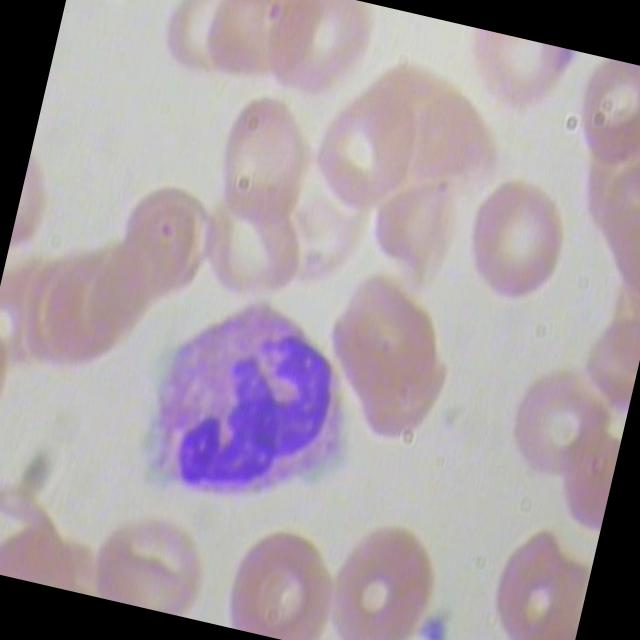Platelets: (411, 602, 457, 640)
RBC: (308, 264, 474, 458), (451, 171, 580, 321), (201, 85, 327, 237), (301, 78, 427, 230), (313, 507, 453, 640), (87, 496, 221, 620), (218, 516, 351, 640), (108, 182, 228, 315), (502, 358, 620, 491), (260, 0, 381, 117), (192, 0, 313, 102), (0, 473, 102, 593), (566, 56, 640, 187)
WBC: (121, 278, 396, 548)
